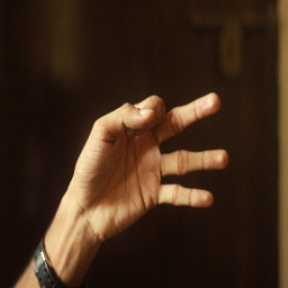K: (71, 88, 232, 225)
